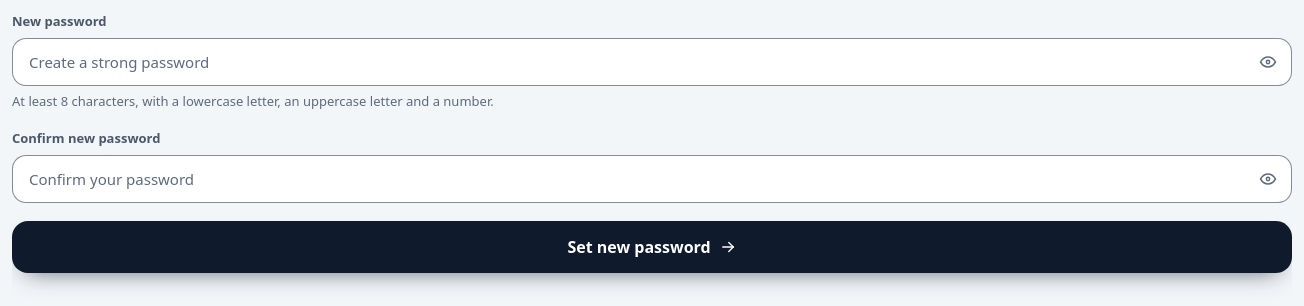
ResetPasswordForm validation › refuses PASSWORD123 with the registration rule
Type "PASSWORD123" into the password field labelled "New password" at (652,62), box 12,38 -> 1292,86
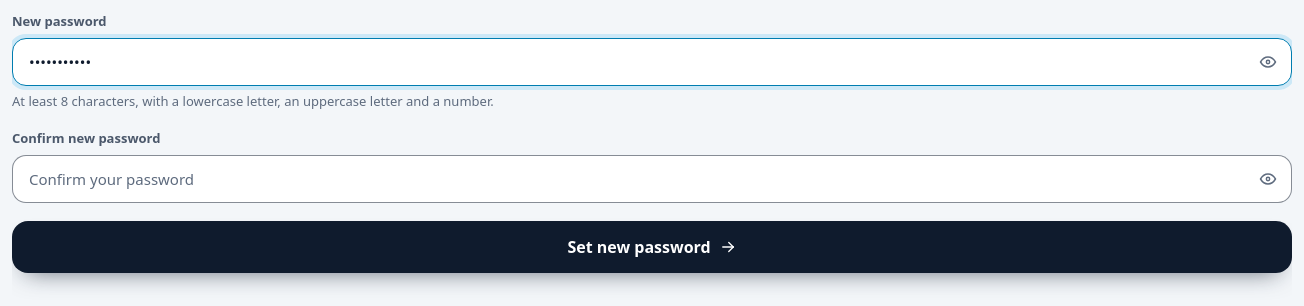
Type "PASSWORD123" into the password field labelled "Confirm new password" at (652,178), box 12,154 -> 1292,202
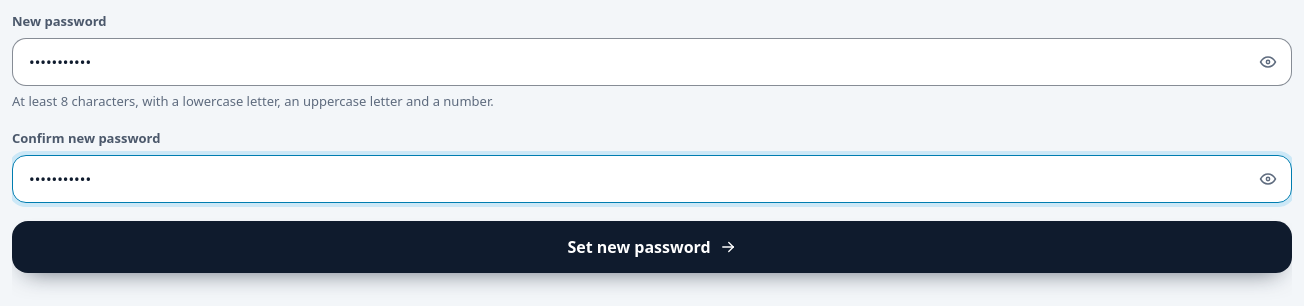
Click the button "Set new password" at (652,246), box 12,220 -> 1292,272
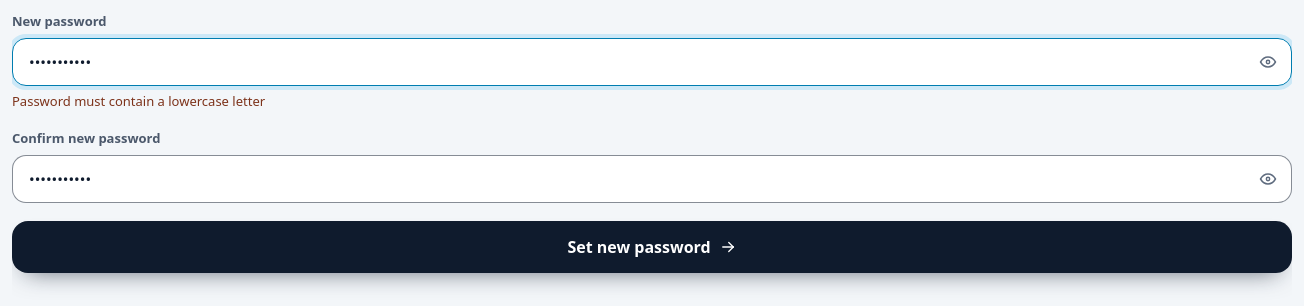
Expected: the text "Password must contain a lowercase letter" is shown, 12,92 -> 265,110
